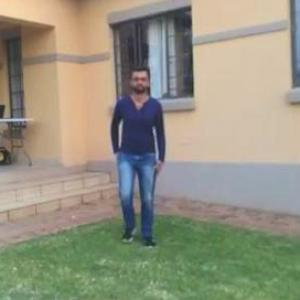follow: (106, 58, 164, 252)
